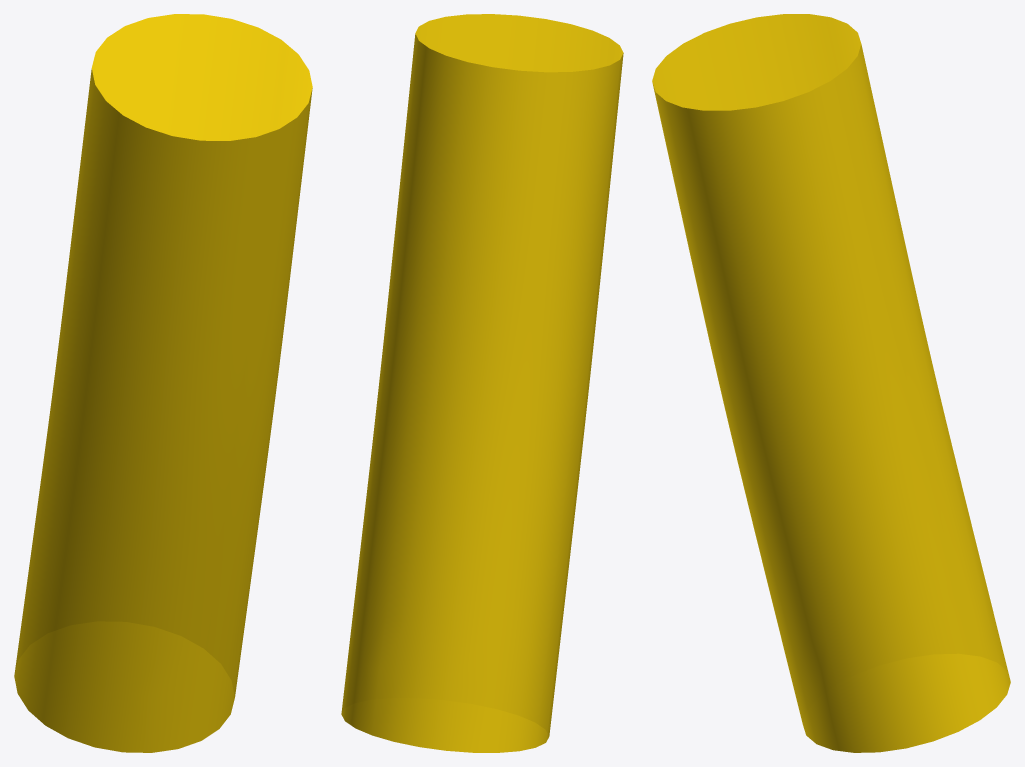
File: Event_421364160_track_12.fbx
The picture shows the model from 3 angles, left to right: view 1: azimuth 30°, elevation 25°; view 2: azimuth 150°, elevation 25°; view 3: azimuth 270°, elevation 25°; orthographic projection. The views are drawn at different scales.
Visible parts, largest first — view 1: Model; view 2: Model; view 3: Model.
Boxes of the visible parts, x1,y1,x2,y2 form: Model: [14, 14, 312, 752]; Model: [341, 14, 623, 752]; Model: [652, 14, 1010, 752].
Size of the model in its own units: 0.0401 by 0.1409 by 0.0673.
